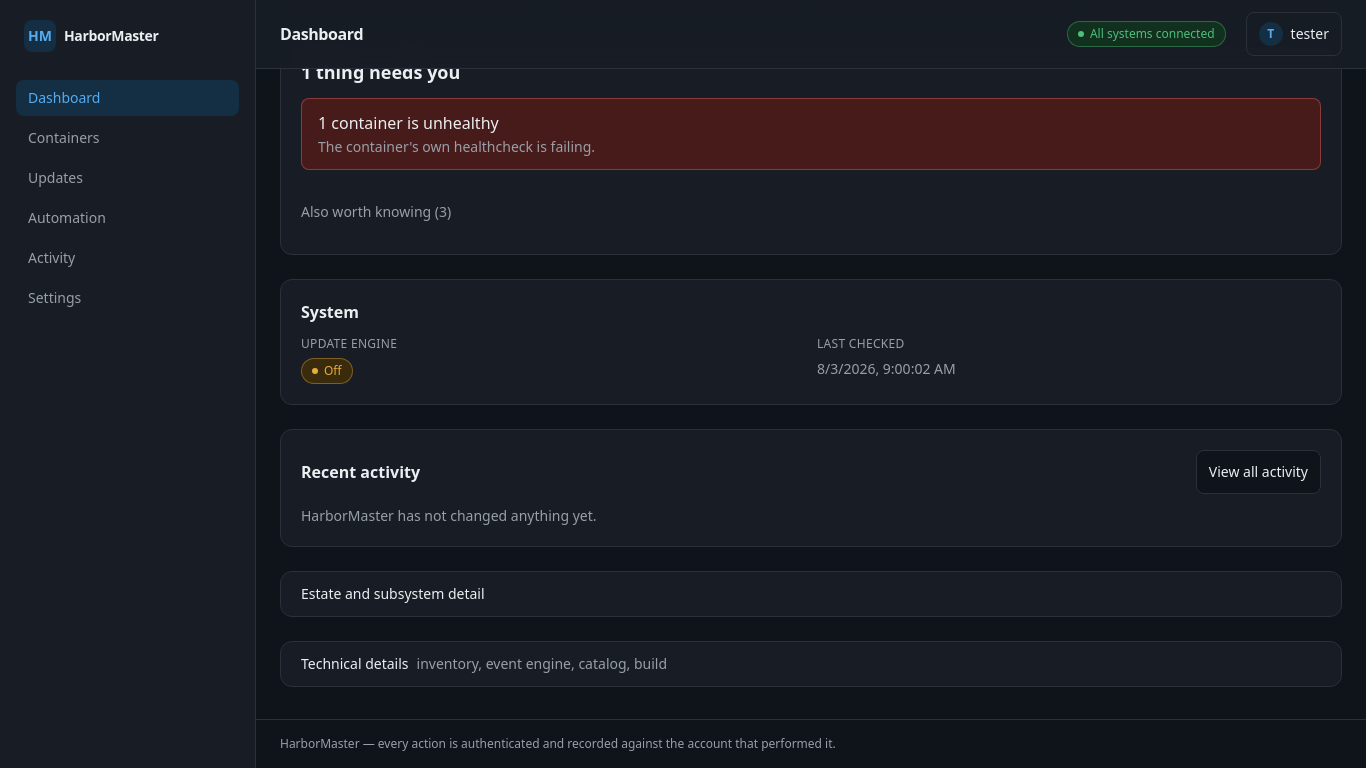
manual refresh › posts to the refresh endpoint and reports that it started
(page scrolled)
Click the heading "Technical details inventory, event engine, catalog, build". click: (484, 664)
box: [301,654,667,673]
(page scrolled)
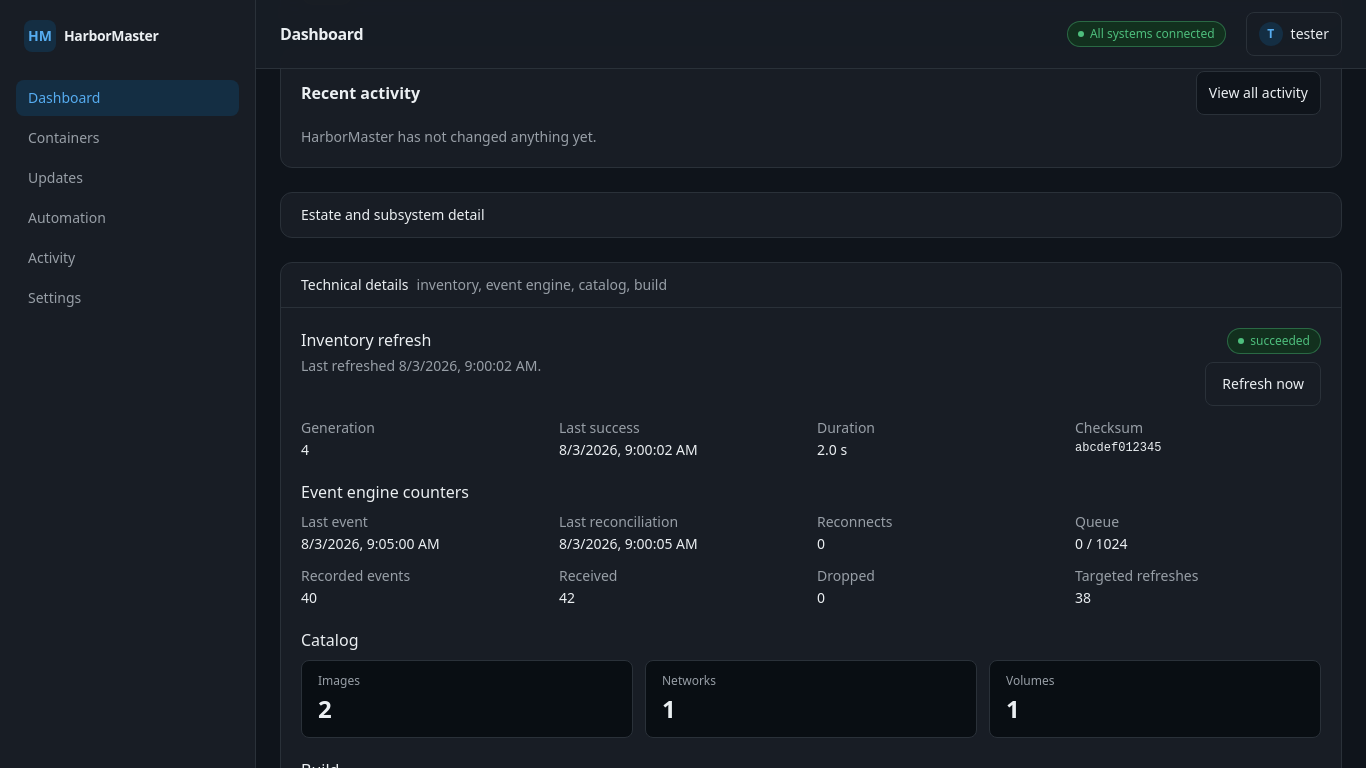
Expected: the button "Refresh now" is enabled
Click the button "Refresh now". click: (1263, 384)
box: [1205,362,1321,406]
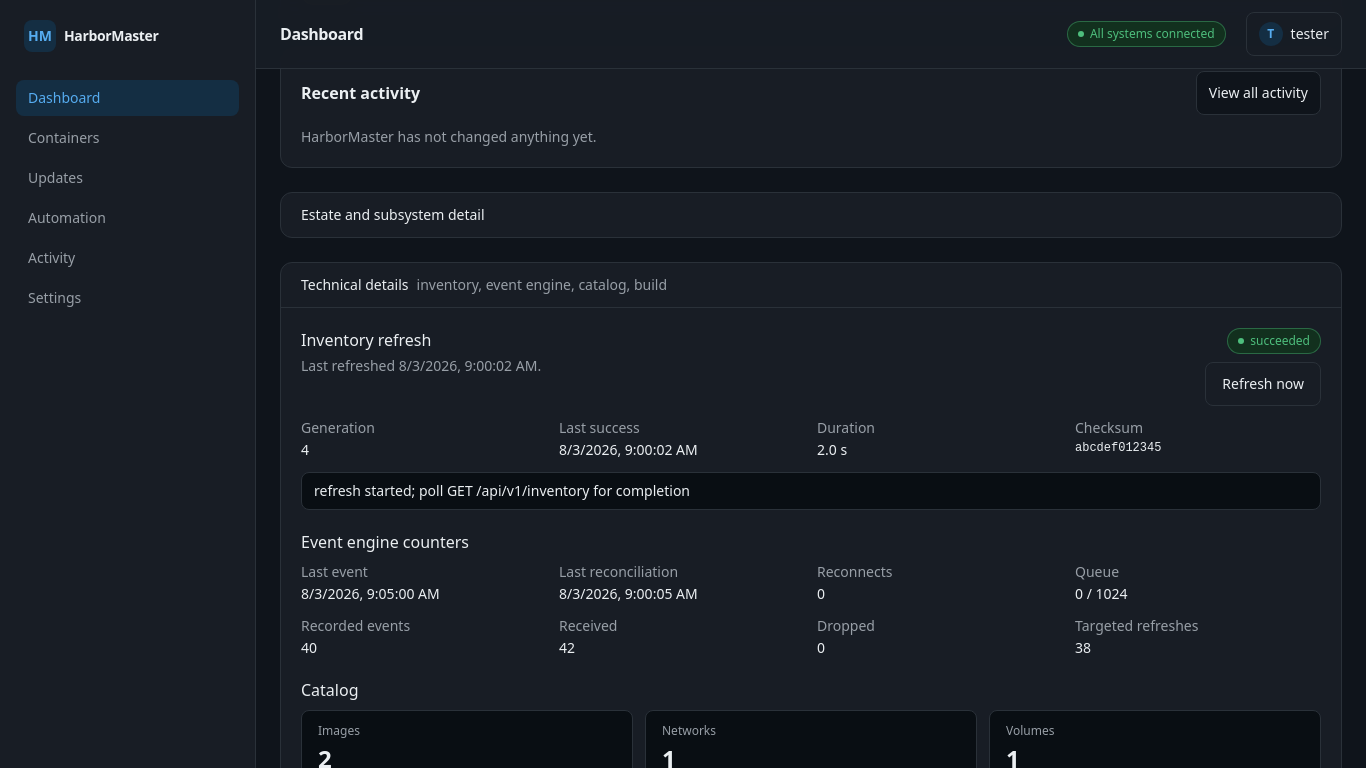
Expected: the message named "refresh status" shows "refresh started", [314,481,690,500]
